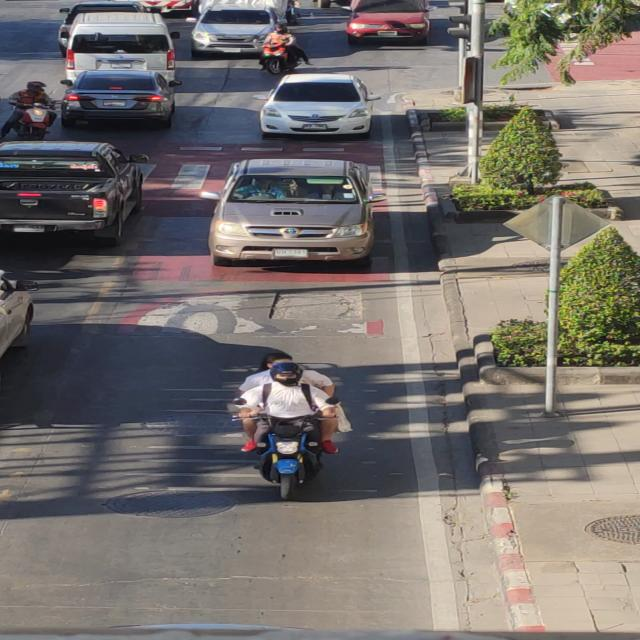car: (184, 142, 388, 270)
